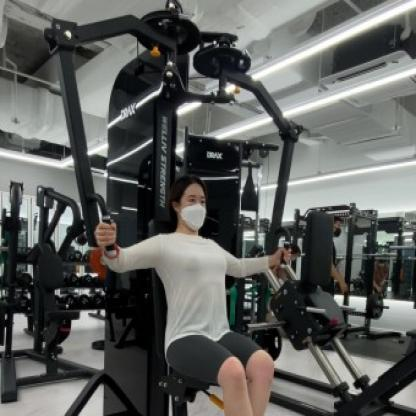chest fly machine: (41, 0, 319, 416)
